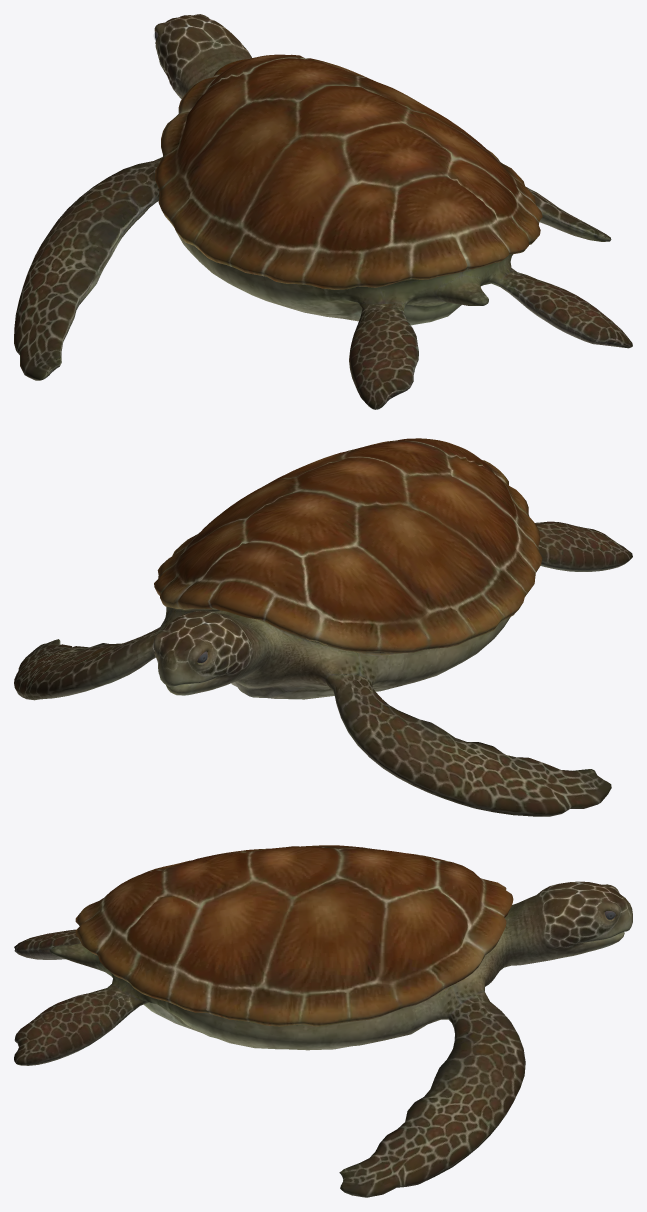
The model's file is green-turtle.glb.
The picture shows the model from 3 angles, top to bottom: view 1: azimuth 30°, elevation 25°; view 2: azimuth 150°, elevation 25°; view 3: azimuth 270°, elevation 25°; orthographic projection. The views are drawn at different scales.
Parts seen in each view (by area): view 1: turt lp arms down_Turtle.001_0; view 2: turt lp arms down_Turtle.001_0; view 3: turt lp arms down_Turtle.001_0.
Boxes of the visible parts, x1,y1,x2,y2 form: turt lp arms down_Turtle.001_0: [14, 14, 632, 409]; turt lp arms down_Turtle.001_0: [14, 438, 632, 816]; turt lp arms down_Turtle.001_0: [14, 845, 632, 1197].
Bounding box in the file's own units: 53.23 × 20.59 × 53.9.
Materials: 3 (2 with a texture image).
